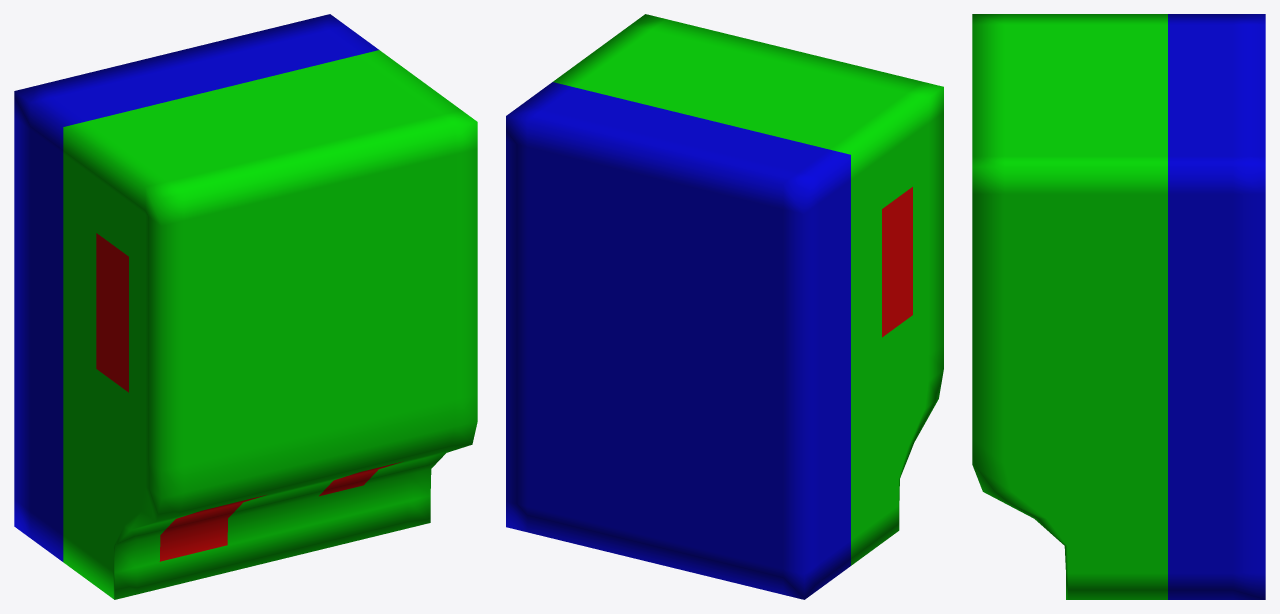
File: Ch_wipeMich-l_A_body03.fbx
3 renders of one model, left to right at view 1: azimuth 30°, elevation 25°; view 2: azimuth 150°, elevation 25°; view 3: azimuth 270°, elevation 25°, orthographic. The views are drawn at different scales.
Parts seen in each view (by area): view 1: ch_wipeMichelA_body02.001; view 2: ch_wipeMichelA_body02.001; view 3: ch_wipeMichelA_body02.001.
Part boxes in pixels (x1,y1,x2,y2): ch_wipeMichelA_body02.001: (14,14,477,599); ch_wipeMichelA_body02.001: (506,14,943,599); ch_wipeMichelA_body02.001: (972,14,1265,599).
Size of the model in its own units: 42.24 by 55.61 by 34.16.
